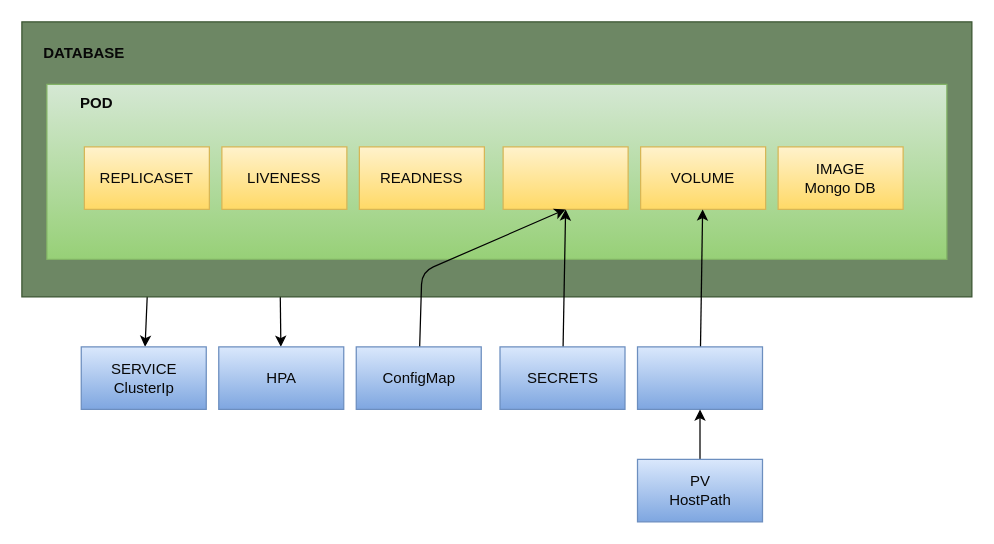
This 994x544 diagram has some shape labels left out. The shapes that lost their labels are listed below. From the top down, each one's box as (x1, y1, x2, y2) in pixels, then its label:
(502, 146, 628, 209): ENV
(636, 346, 762, 409): PVC
